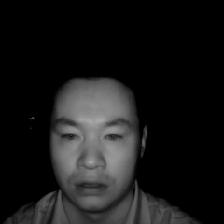normal: (35, 57, 148, 221)
